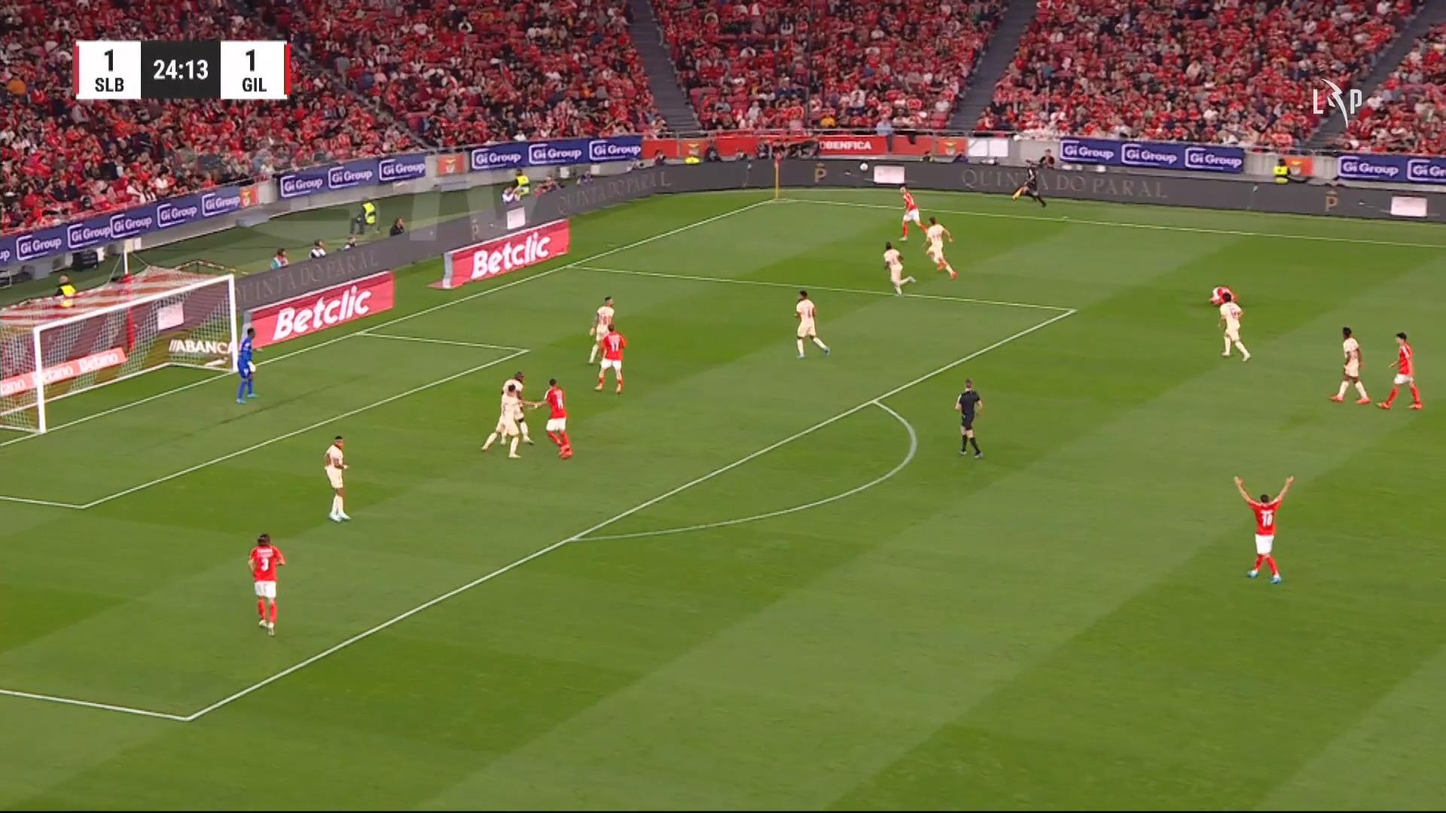goalkeeper: (234, 327, 263, 405)
player: (1232, 474, 1294, 584), (1377, 332, 1424, 411), (249, 533, 285, 636), (538, 374, 578, 461), (1329, 327, 1372, 405), (323, 433, 353, 523), (793, 289, 830, 360), (484, 387, 519, 460), (584, 292, 619, 363), (1217, 292, 1252, 363), (502, 372, 533, 445), (923, 216, 957, 280), (880, 241, 919, 295), (596, 328, 626, 392), (899, 185, 929, 242), (1209, 284, 1238, 306)
referee: (954, 378, 983, 461), (1011, 163, 1047, 209)
